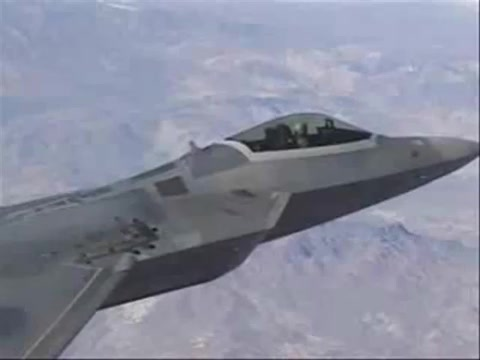aeroplane: (2, 109, 480, 359)
